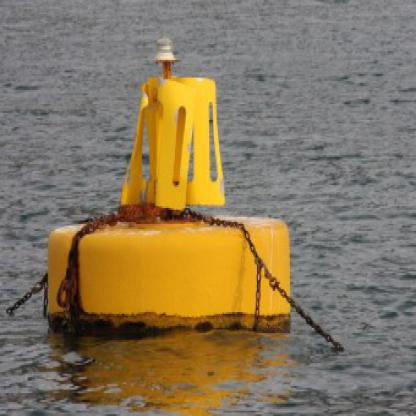buoy: (35, 21, 298, 342)
